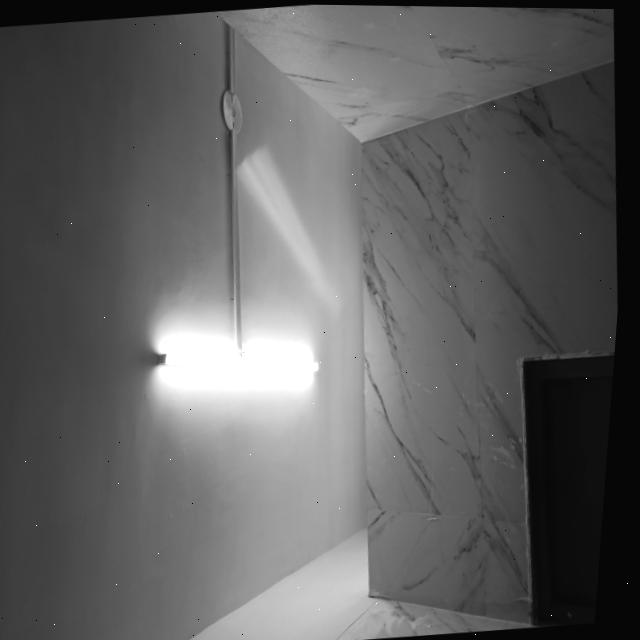light_on: (153, 328, 330, 397)
